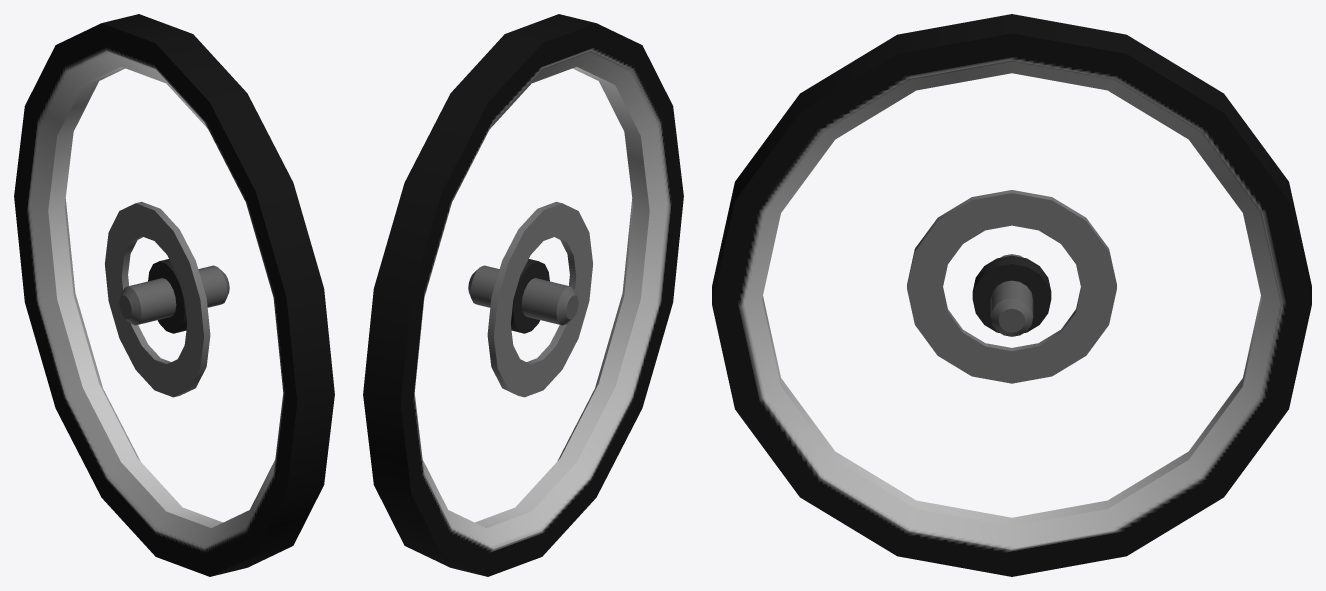
Rendered from Bike Front Wheel.fbx.
The picture shows the model from 3 angles, left to right: view 1: azimuth 30°, elevation 25°; view 2: azimuth 150°, elevation 25°; view 3: azimuth 270°, elevation 25°; orthographic projection. The views are drawn at different scales.
Visible parts, largest first — view 1: Mountain Bike Front Wheel; view 2: Mountain Bike Front Wheel; view 3: Mountain Bike Front Wheel.
Boxes of the visible parts, bbox=[...] form: Mountain Bike Front Wheel: bbox=[14, 14, 334, 576]; Mountain Bike Front Wheel: bbox=[363, 14, 683, 576]; Mountain Bike Front Wheel: bbox=[712, 14, 1311, 576].
Size of the model in its own units: 27.53 by 138 by 138.
